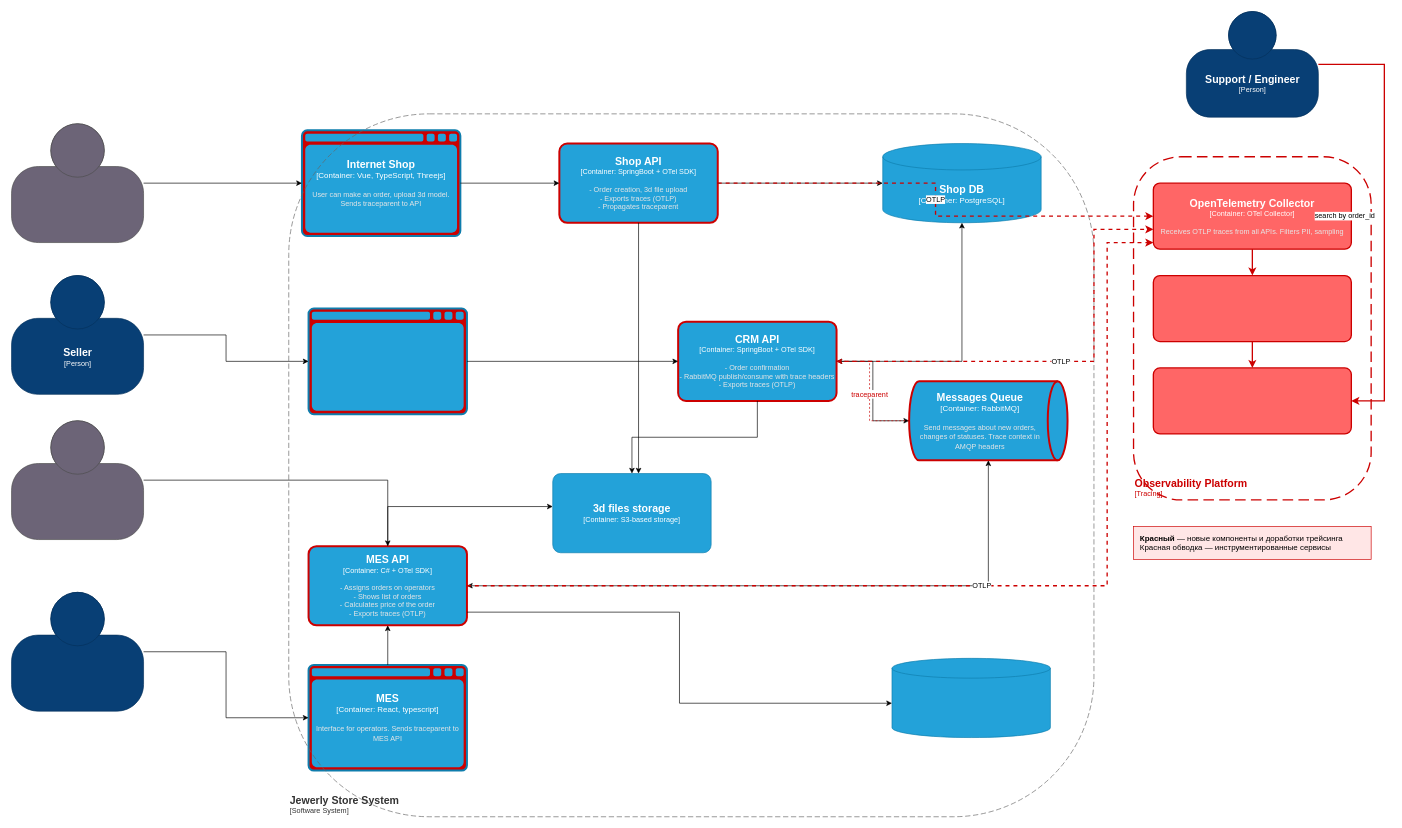
Some shapes in this 1402 by 828 pixel diagram are drawn without their labels. Here are the shapes that lost their labels. From the top down, the centre of each, then its label:
(77,183): Customer [Person]
(1252,308): Trace Storage [Container: Grafana Tempo] Stores traces. Search by order_id
(387,361): CRM [Container: Vue, Typescript]
(1252,400): Grafana [Container: Grafana] Order trace timeline UI. Role: Support, Engineer
(77,480): API user [Person]
(77,651): Operator [Person]
(970,698): MES db [Container: PostgreSQL]
